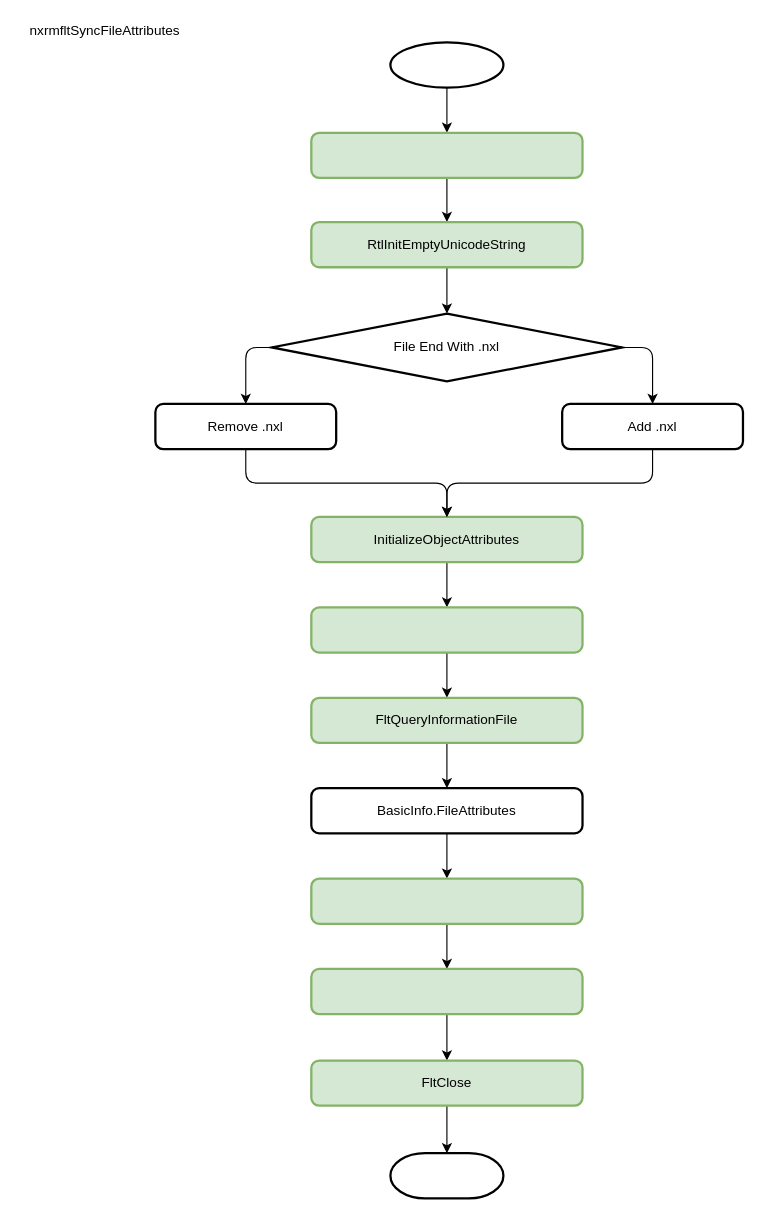
Some shapes in this 763 by 1218 pixel diagram are drawn without their labels. Here are the shapes that lost their labels. From the top down, the centre of each, then its label:
[446,155]: ExAllocateFromPagedLookasideList
[446,629]: FltCreateFileEx2
[446,900]: FltSetInformationFile
[446,991]: ObDereferenceObject
